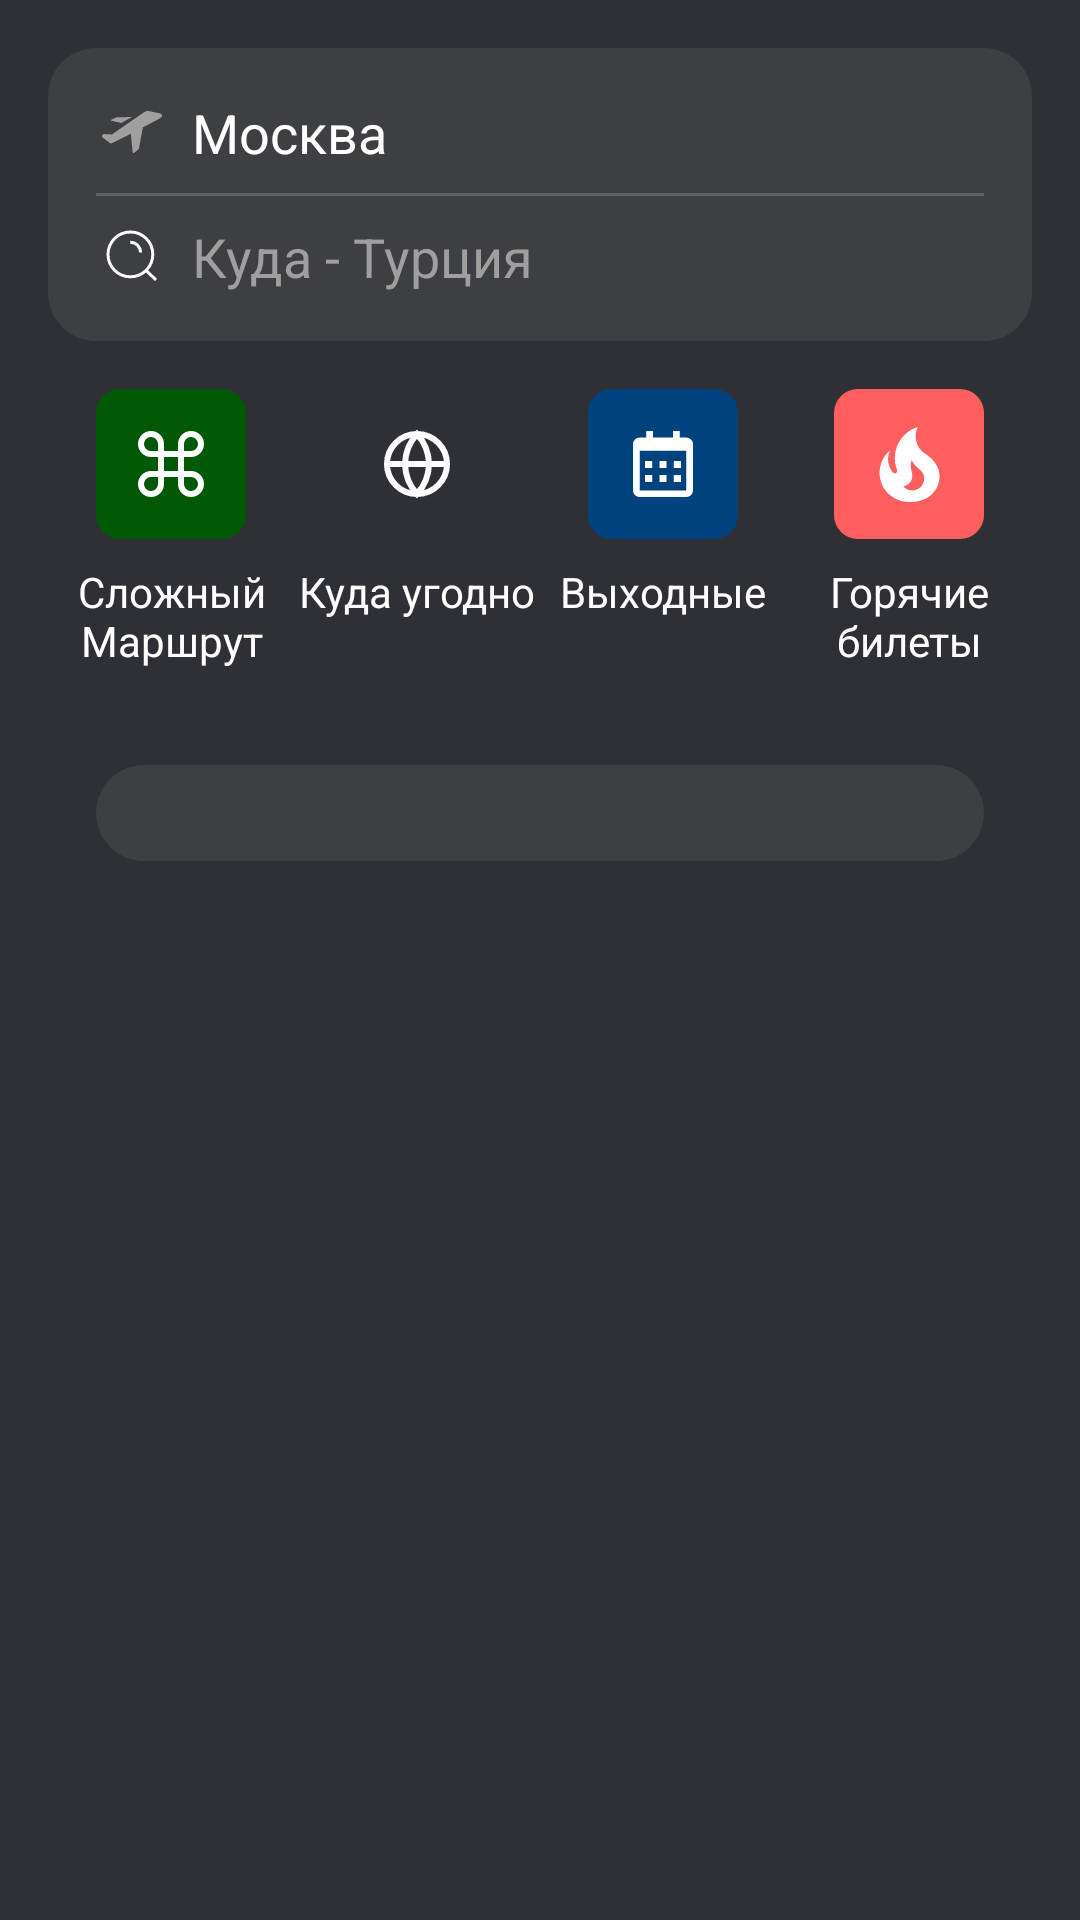

Icons on this 1080*1920 Android screen, each with the point to tap as (x,y):
calendar: (663,464)
fire: (909,464)
globus: (417,464)
